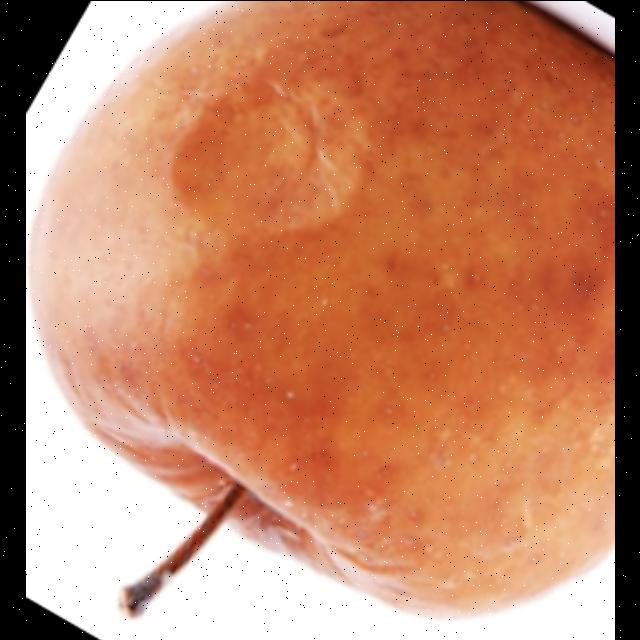Apel Tidak Segar: (32, 1, 614, 610)
